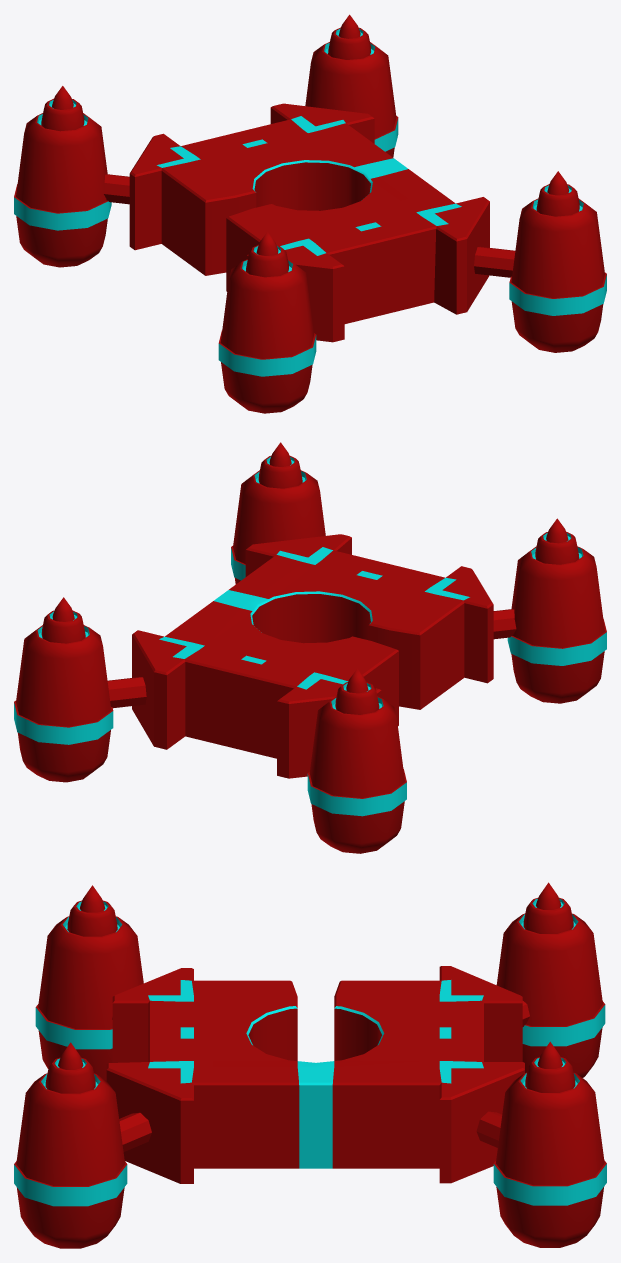
Rendered from GJ_Envrio_Kit_Buildings_HL_31-07-2019_v3.fbx.
The picture shows the model from 3 angles, top to bottom: view 1: azimuth 30°, elevation 25°; view 2: azimuth 150°, elevation 25°; view 3: azimuth 270°, elevation 25°; orthographic projection. The views are drawn at different scales.
Visible parts, largest first — view 1: Building_3_Flats1; view 2: Building_3_Flats1; view 3: Building_3_Flats1.
Boxes of the visible parts, <box> form: Building_3_Flats1: <box>14,14,606,413</box>; Building_3_Flats1: <box>14,442,606,853</box>; Building_3_Flats1: <box>14,882,606,1248</box>.
Bounding box in the file's own units: 1911 × 875 × 2334.
